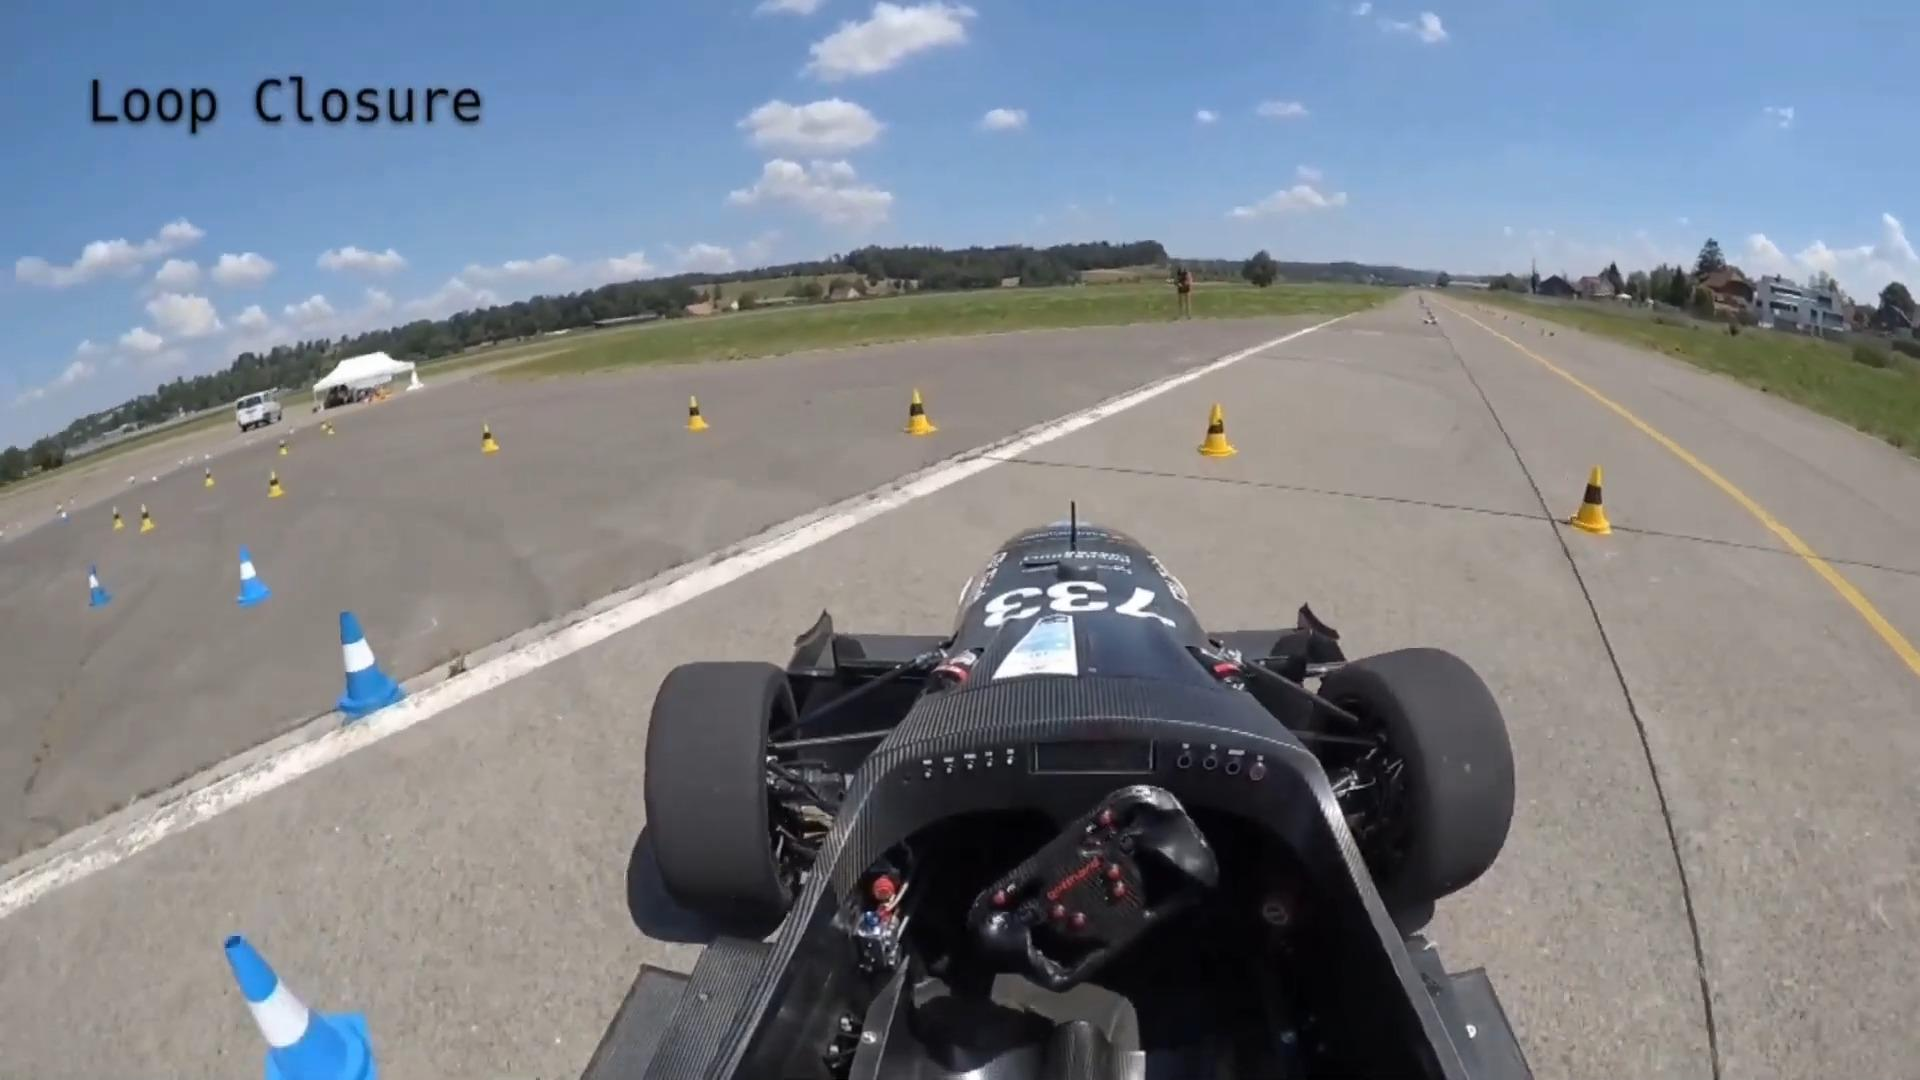blue_cone: (220, 928, 377, 1080), (327, 612, 405, 715), (233, 543, 273, 608), (82, 564, 113, 607)
yellow_cone: (1563, 462, 1618, 537), (1195, 400, 1238, 460), (902, 386, 940, 436), (682, 394, 711, 431), (480, 423, 501, 452), (264, 471, 286, 497), (137, 505, 157, 533), (108, 506, 128, 530), (203, 469, 219, 488), (278, 439, 290, 455)
